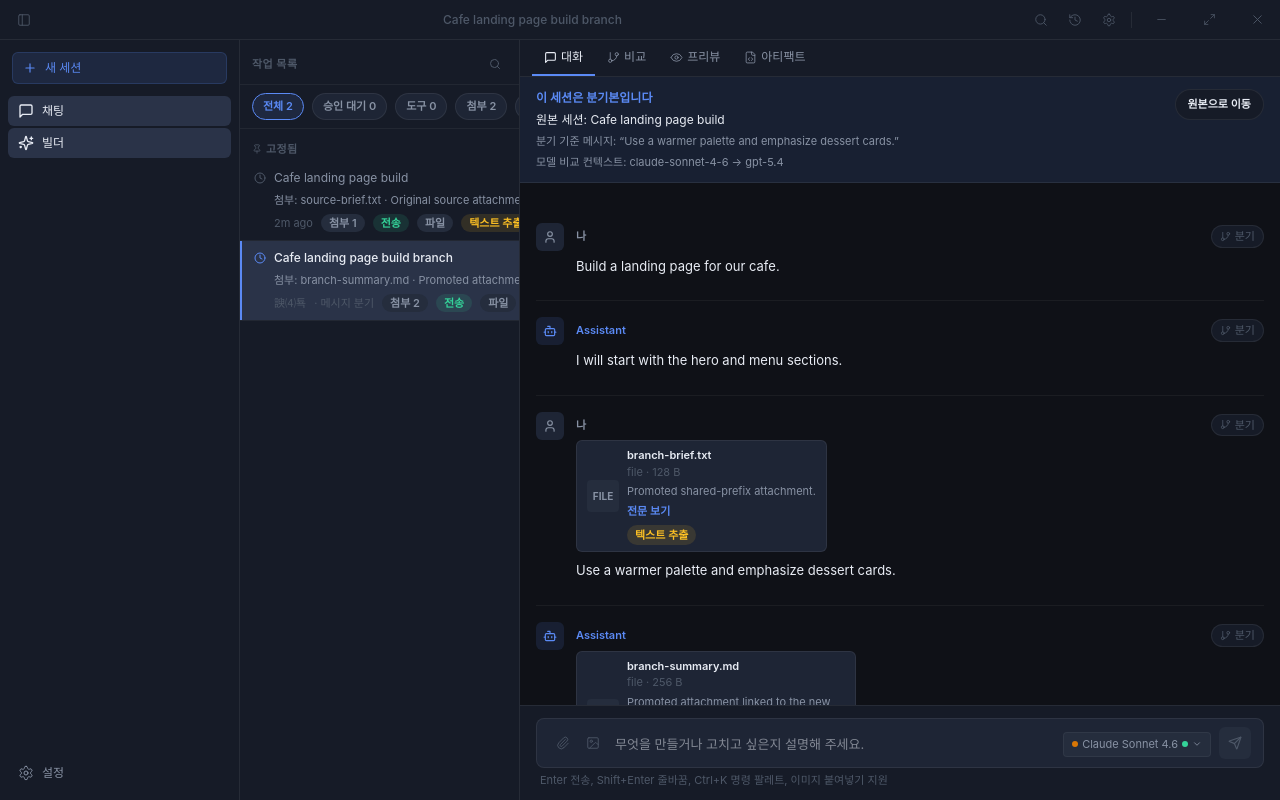
Test: App shell › promotes a compare branch back into the main thread
Click the tab "비교" at [627, 58], box 595,40 -> 658,76
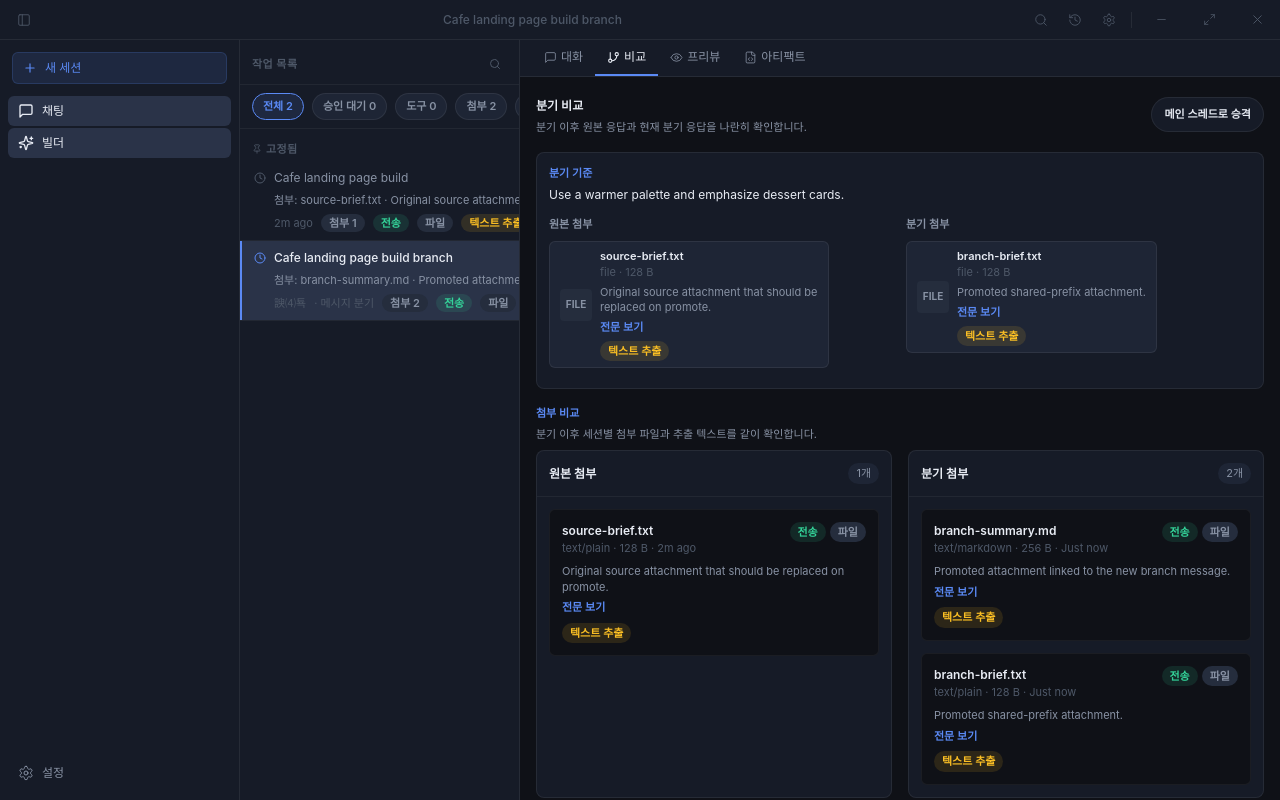
Click the button "메인 스레드로 승격" at [1208, 114], box 1152,97 -> 1264,132
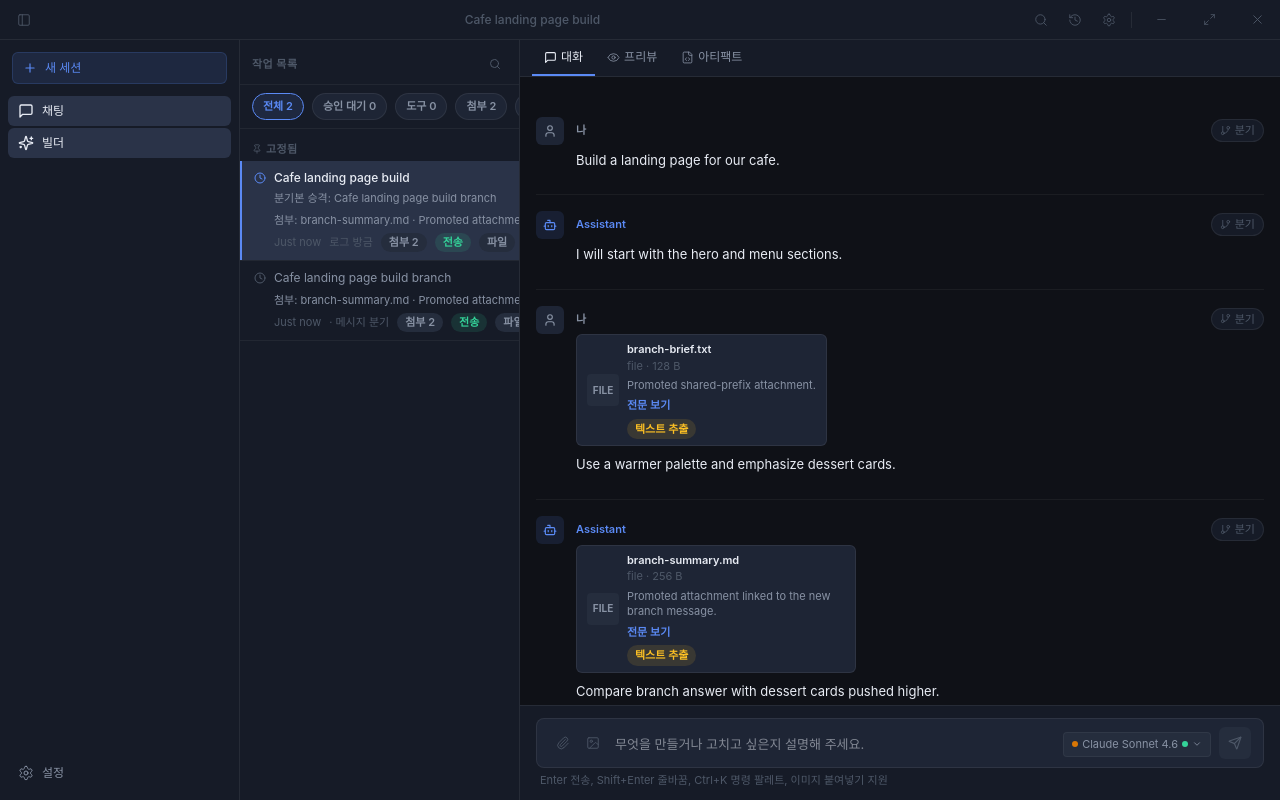
Result: the tab "비교" is gone
Result: the text "Compare branch answer with dessert cards pushed higher." is shown at 576,683 -> 940,699
